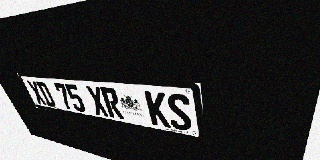5: (64, 84, 87, 113)
7: (53, 83, 75, 111)
D: (35, 81, 57, 107)
K: (144, 91, 171, 128)
R: (100, 87, 125, 120)
S: (165, 93, 193, 132)
X: (85, 86, 110, 117), (26, 80, 47, 106)
